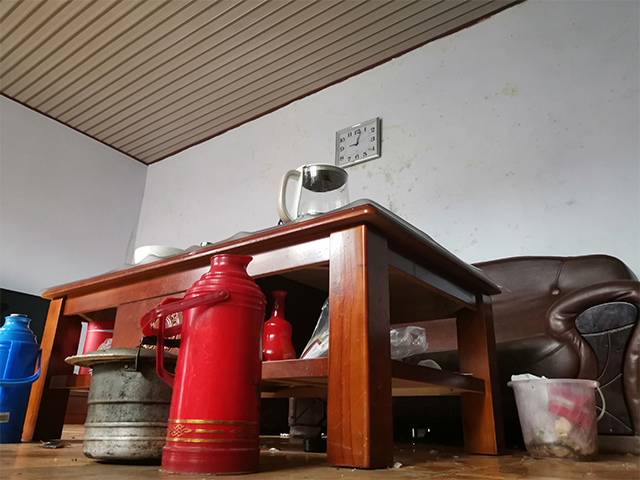table: (18, 197, 504, 471)
trashcan: (504, 371, 607, 462)
